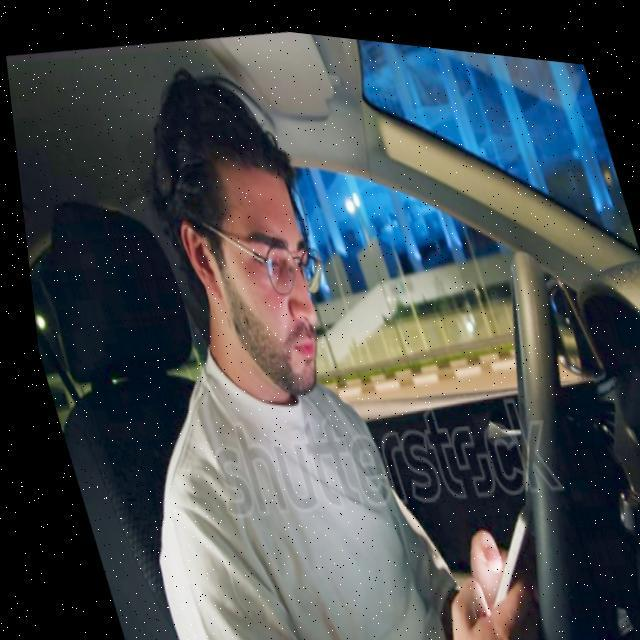PhoneCall: (441, 481, 549, 616)
